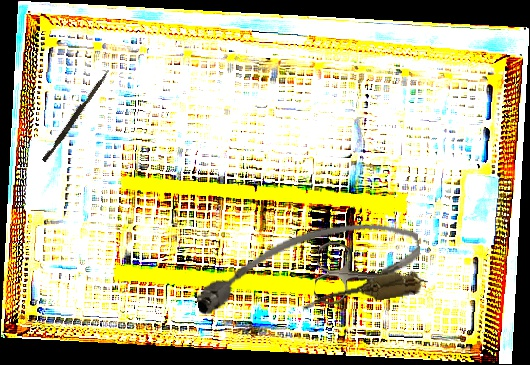Cannula: (189, 213, 427, 329)
Iris Scissors: (312, 239, 432, 315)
Pusher: (41, 67, 111, 164)
